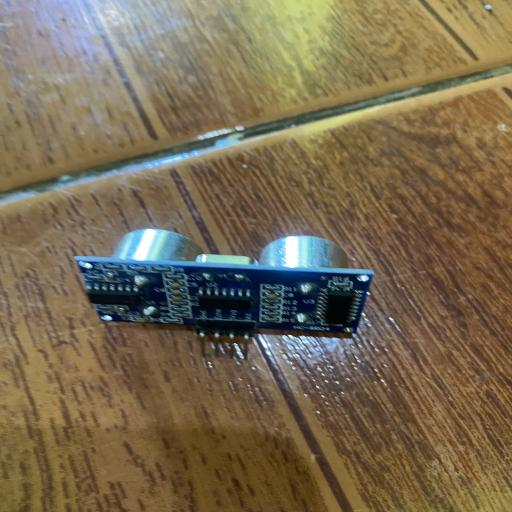Ultrasonic Sensor: (74, 227, 375, 359)
